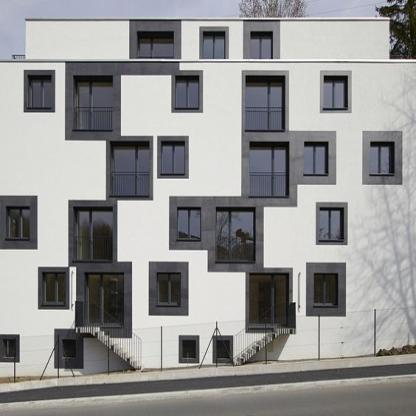Building Outline: (0, 18, 416, 384)
Door: (272, 272, 289, 330), (84, 272, 101, 329)
Facade: (25, 18, 390, 384)
Floor: (0, 139, 416, 201), (0, 207, 416, 266)
Floor Slab: (0, 133, 416, 139), (0, 201, 416, 207), (0, 266, 416, 272)
Glass Wall: (249, 272, 272, 330), (101, 272, 124, 329)
Ground Floor: (0, 272, 416, 384)
Top Floor: (25, 18, 390, 133)
Window: (215, 207, 256, 264), (246, 75, 286, 131), (73, 75, 113, 131), (110, 141, 150, 197), (249, 142, 289, 198), (74, 207, 113, 263), (137, 31, 174, 59), (320, 206, 345, 242), (314, 271, 339, 307), (156, 271, 181, 307), (370, 142, 395, 176), (177, 206, 201, 241), (42, 271, 66, 306), (27, 75, 52, 108), (175, 75, 199, 109), (324, 75, 348, 109), (304, 142, 328, 176), (161, 141, 185, 175), (6, 206, 30, 240), (250, 31, 273, 59), (203, 31, 226, 59), (2, 338, 16, 357), (216, 340, 230, 358), (62, 339, 76, 357), (182, 340, 196, 358)
